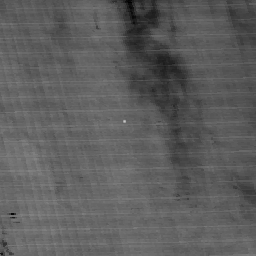Target: (121, 119, 127, 124)
